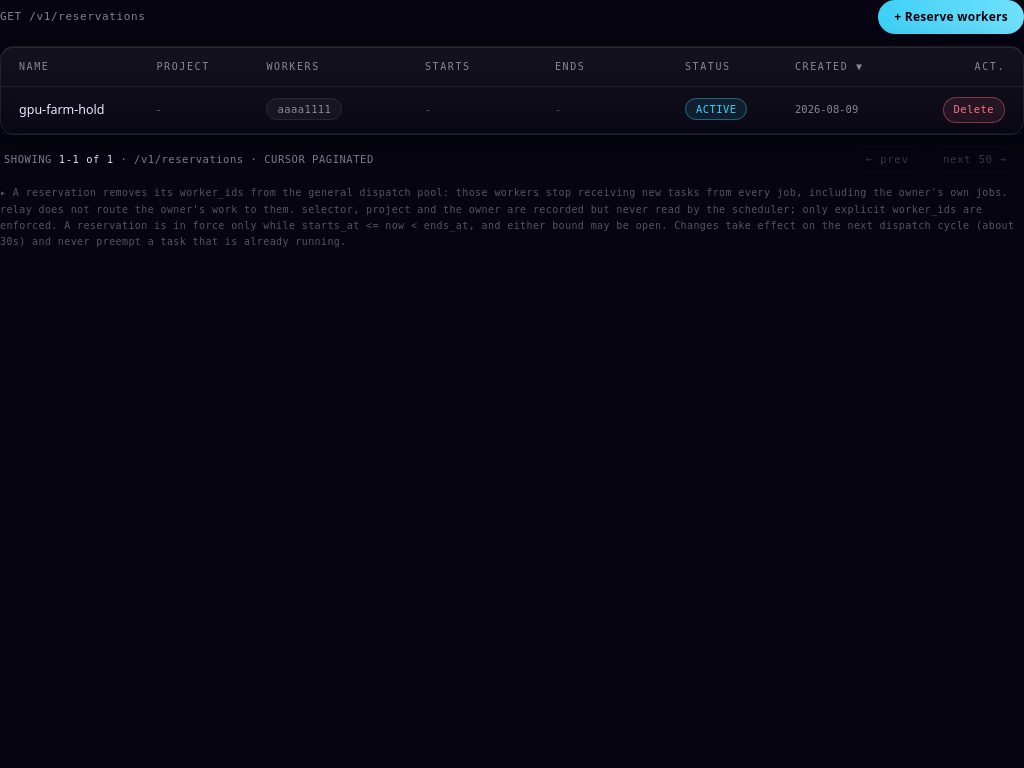
it: a delete 404 renders in the action-error box and the list still refetches
The width and height of the screenshot is (1024, 768).
Expected: the text "gpu-farm-hold" is shown, [19, 100, 104, 119]
Click the button with aria-label "Delete reservation gpu-farm-hold".
click(974, 110)  # box [942, 97, 1005, 123]
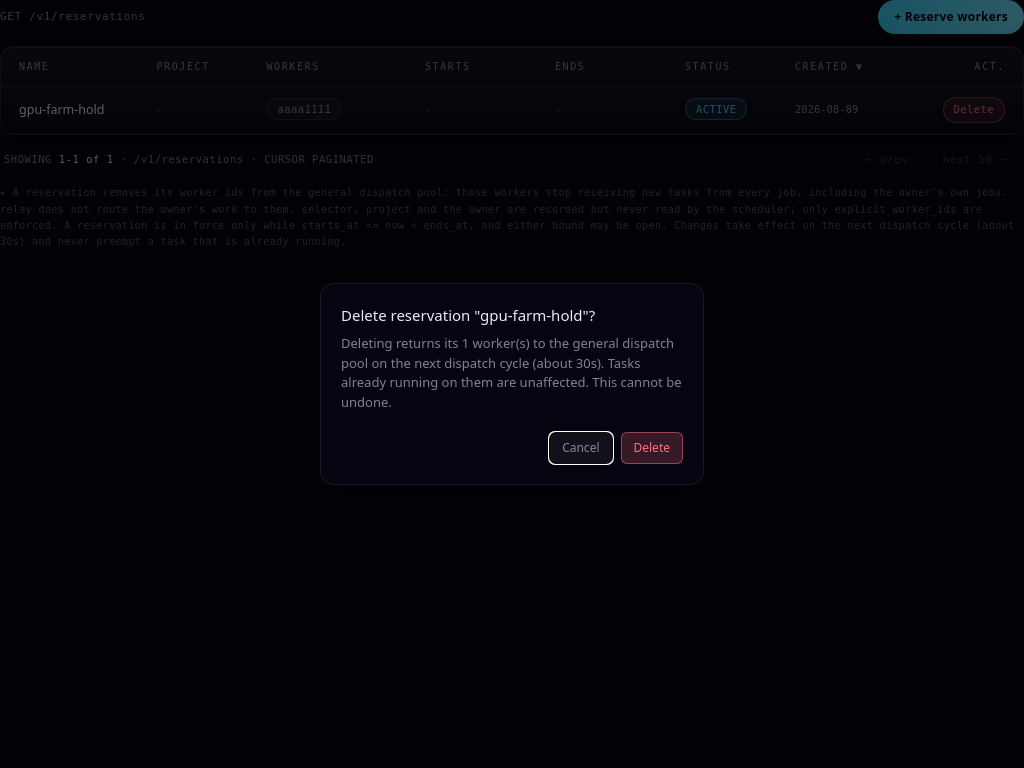
Click the button "Delete".
click(652, 448)  # box [620, 432, 683, 464]
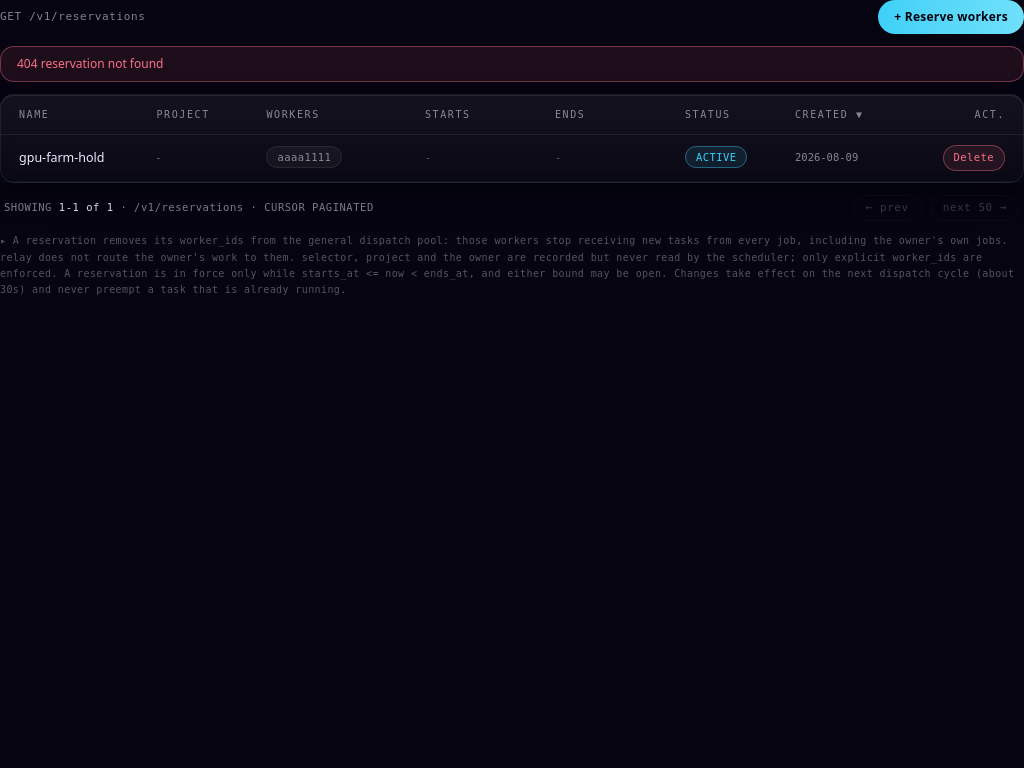
Expected: the text "404 reservation not found" is shown, [0, 46, 1023, 82]
